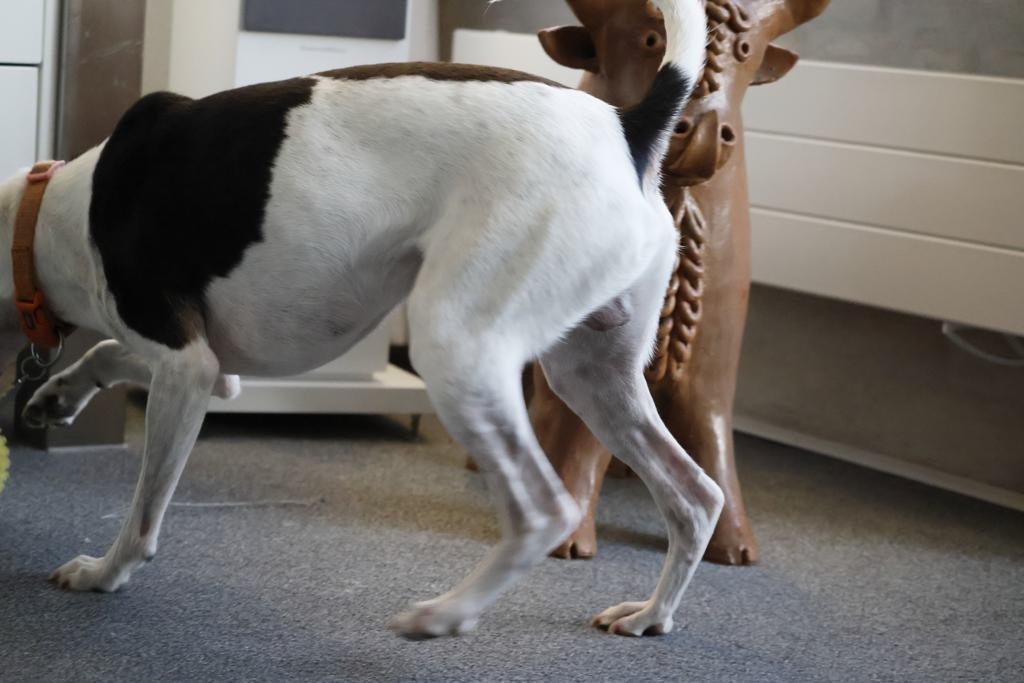Cattle: (448, 0, 845, 590)
Dog: (0, 0, 734, 650)
